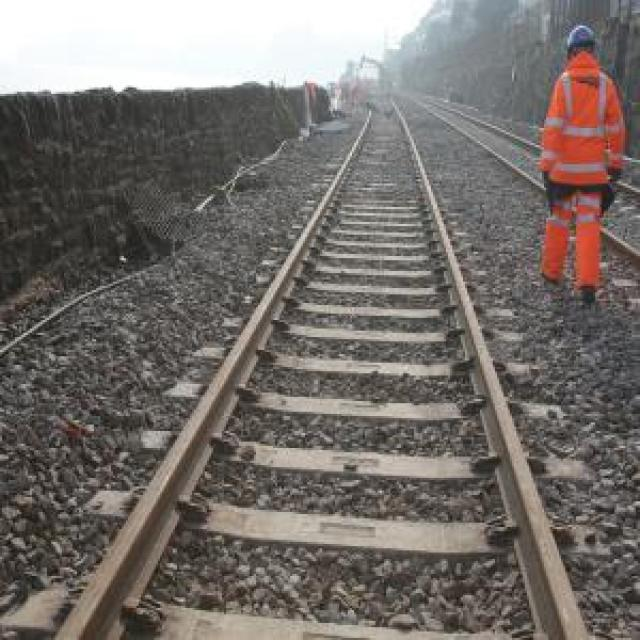rail: (11, 97, 631, 640)
